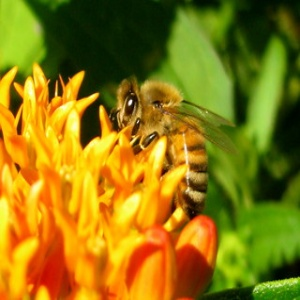bee: (110, 72, 241, 219)
